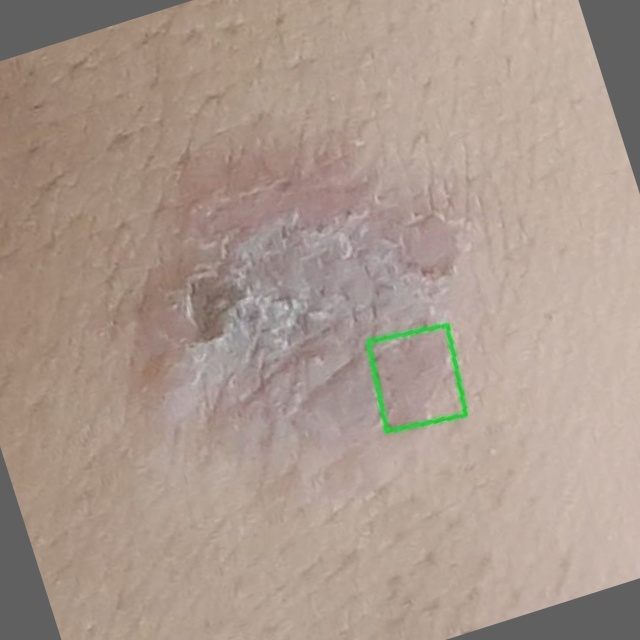Contact Dermatitis: (368, 325, 465, 431)
